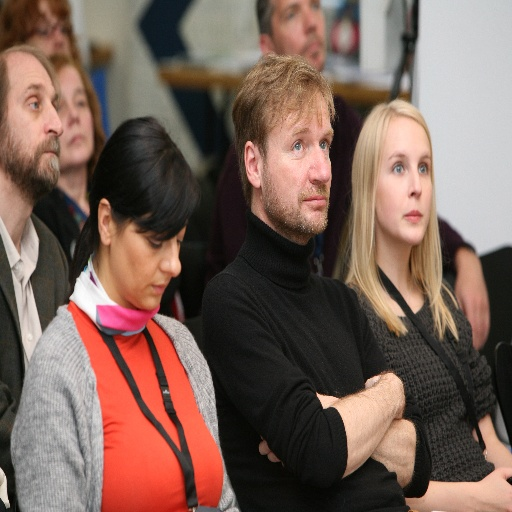hand: (455, 257, 491, 352), (364, 371, 405, 420), (478, 464, 511, 511), (257, 436, 283, 466)
